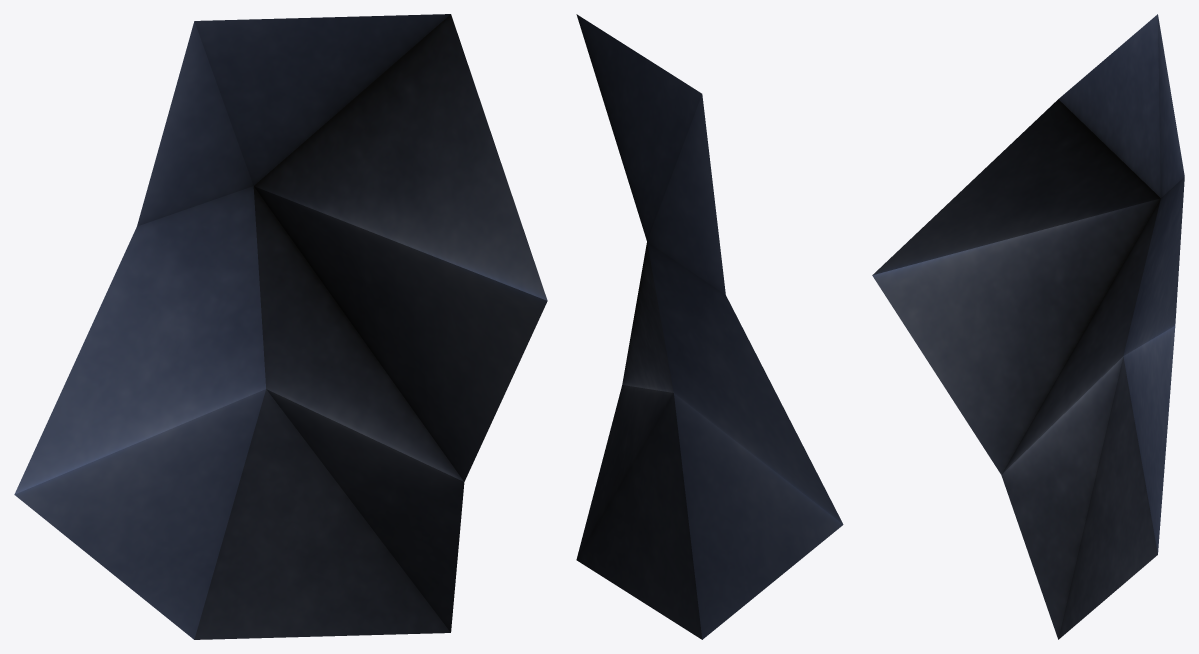
Rendered from SM_Wall_Edge_D_A.fbx.
3 renders of one model, left to right at view 1: azimuth 30°, elevation 25°; view 2: azimuth 150°, elevation 25°; view 3: azimuth 270°, elevation 25°, orthographic. The views are drawn at different scales.
Parts seen in each view (by area): view 1: pCube201; view 2: pCube201; view 3: pCube201.
Boxes of the visible parts, <box> form: pCube201: <box>14,14,547,639</box>; pCube201: <box>576,14,843,639</box>; pCube201: <box>872,14,1184,639</box>.
Bounding box in the file's own units: 0.6252 × 1 × 0.5239.
